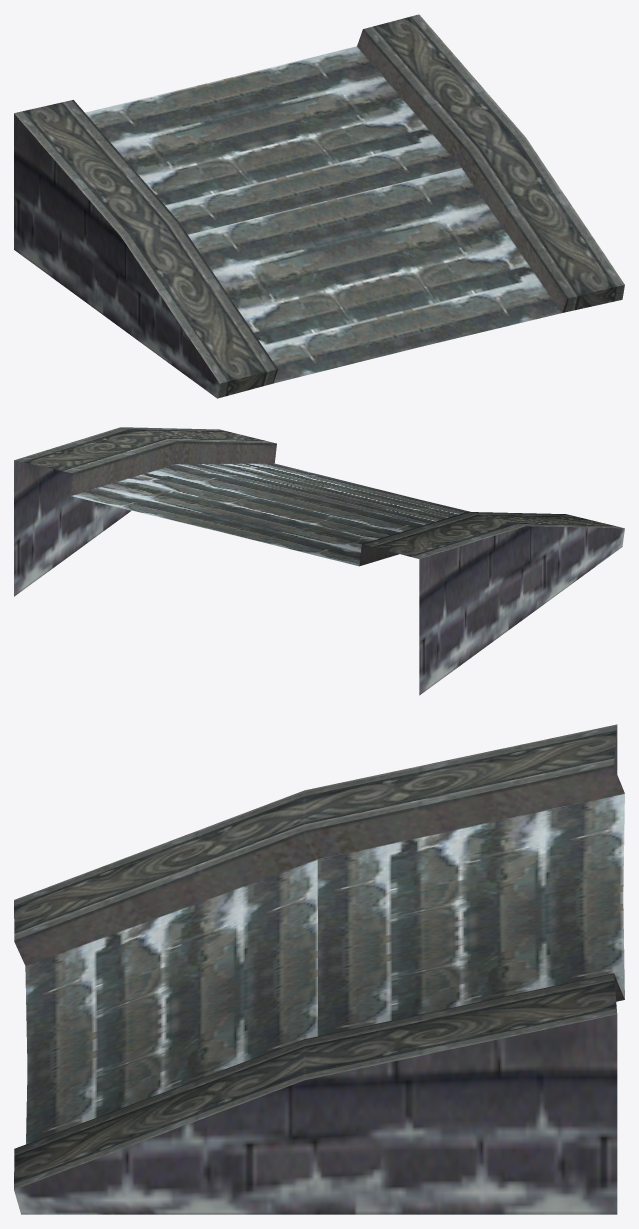
Rendered from yw_piaomiaofeng_louti.FBX.
3 views of the same model, one above another, from view 1: azimuth 30°, elevation 25°; view 2: azimuth 150°, elevation 25°; view 3: azimuth 270°, elevation 25° (orthographic). The views are drawn at different scales.
Parts seen in each view (by area): view 1: yw_piaomiaofeng_louti; view 2: yw_piaomiaofeng_louti; view 3: yw_piaomiaofeng_louti.
Part boxes in pixels (x1=…): yw_piaomiaofeng_louti: x1=14, y1=14, x2=624, y2=398; yw_piaomiaofeng_louti: x1=14, y1=427, x2=624, y2=695; yw_piaomiaofeng_louti: x1=14, y1=724, x2=624, y2=1214.
Size of the model in its own units: 628 by 202 by 560.
